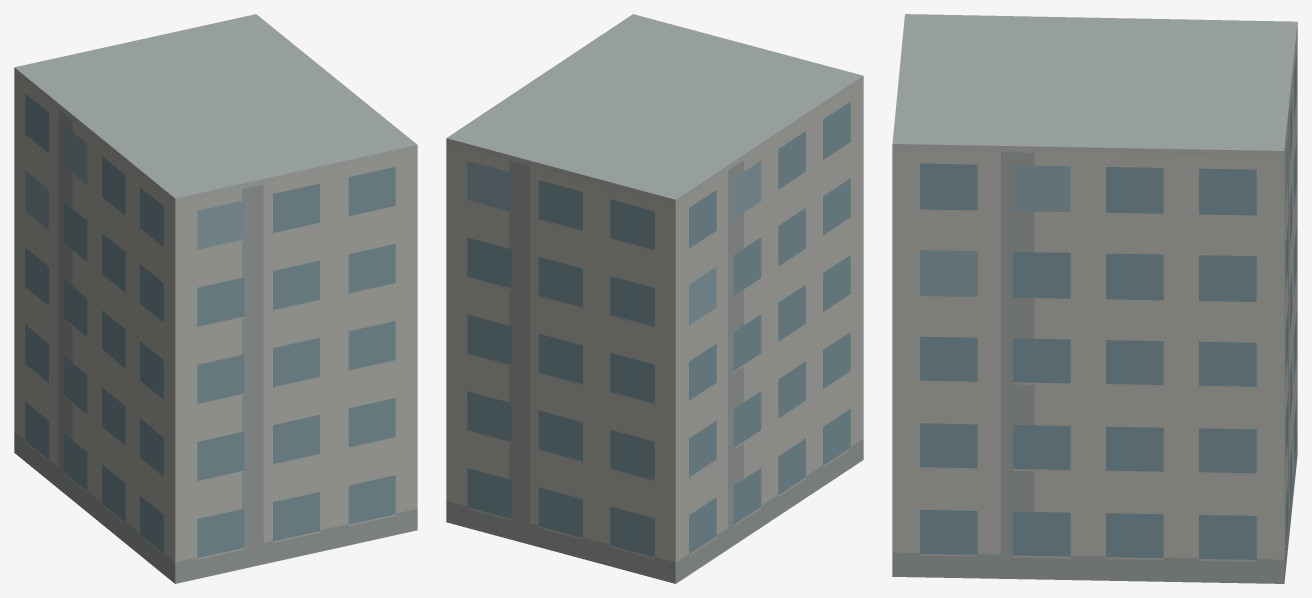
The model's file is survey-upis-32835345.glb.
3 renders of one model, left to right at view 1: azimuth 30°, elevation 25°; view 2: azimuth 150°, elevation 25°; view 3: azimuth 270°, elevation 25°, orthographic. The views are drawn at different scales.
Visible parts, largest first — view 1: survey-upis-32835345.tmp; view 2: survey-upis-32835345.tmp; view 3: survey-upis-32835345.tmp.
Part boxes in pixels (x1,y1,x2,y2): survey-upis-32835345.tmp: [14, 14, 417, 583]; survey-upis-32835345.tmp: [446, 14, 863, 583]; survey-upis-32835345.tmp: [892, 14, 1297, 583].
Bounding box in the file's own units: 11.54 × 17 × 14.43.
